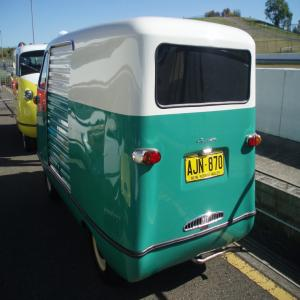Vehicle-registration-plate: (186, 150, 225, 184)
